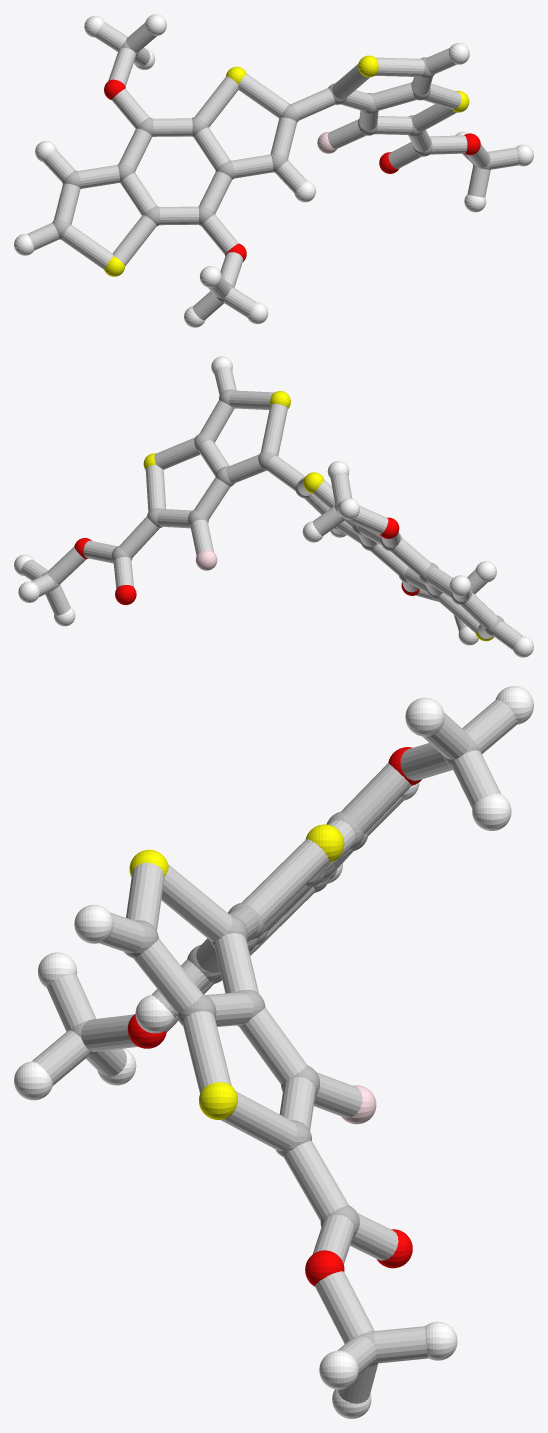
The model's file is color.glb.
3 renders of one model, top to bottom at view 1: azimuth 30°, elevation 25°; view 2: azimuth 150°, elevation 25°; view 3: azimuth 270°, elevation 25°, orthographic. The views are drawn at different scales.
Parts seen in each view (by area): view 1: grp15205, grp8689, grp1, grp7241, grp13395; view 2: grp15205, grp8689, grp1, grp13395, grp7241, grp14843; view 3: grp15205, grp8689, grp1, grp7241, grp13395.
Part boxes in pixels (x1,y1,x2,y2): grp15205: [27, 22, 518, 320]; grp8689: [14, 14, 533, 327]; grp1: [52, 40, 490, 302]; grp7241: [104, 55, 469, 276]; grp13395: [104, 79, 480, 261]; grp15205: [21, 366, 523, 649]; grp8689: [14, 356, 533, 657]; grp1: [41, 389, 504, 636]; grp13395: [74, 517, 419, 605]; grp7241: [143, 391, 493, 641]; grp14843: [195, 550, 217, 570]; grp15205: [32, 699, 517, 1403]; grp8689: [14, 686, 533, 1418]; grp1: [69, 736, 480, 1367]; grp7241: [129, 824, 344, 1119]; grp13395: [127, 747, 421, 1286].
Bounding box in the file's own units: 16.45 × 7.66 × 7.92.
